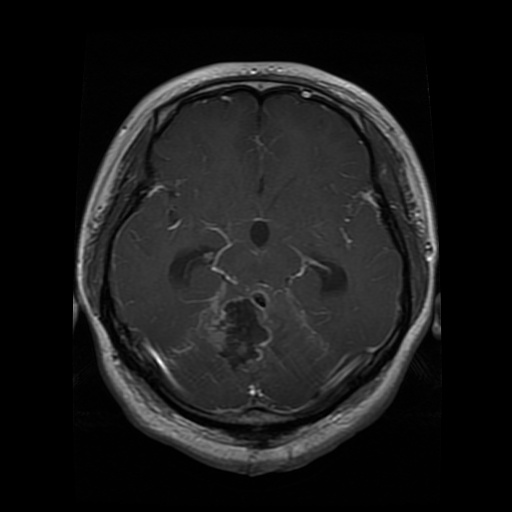glioma: (192, 286, 277, 372)
